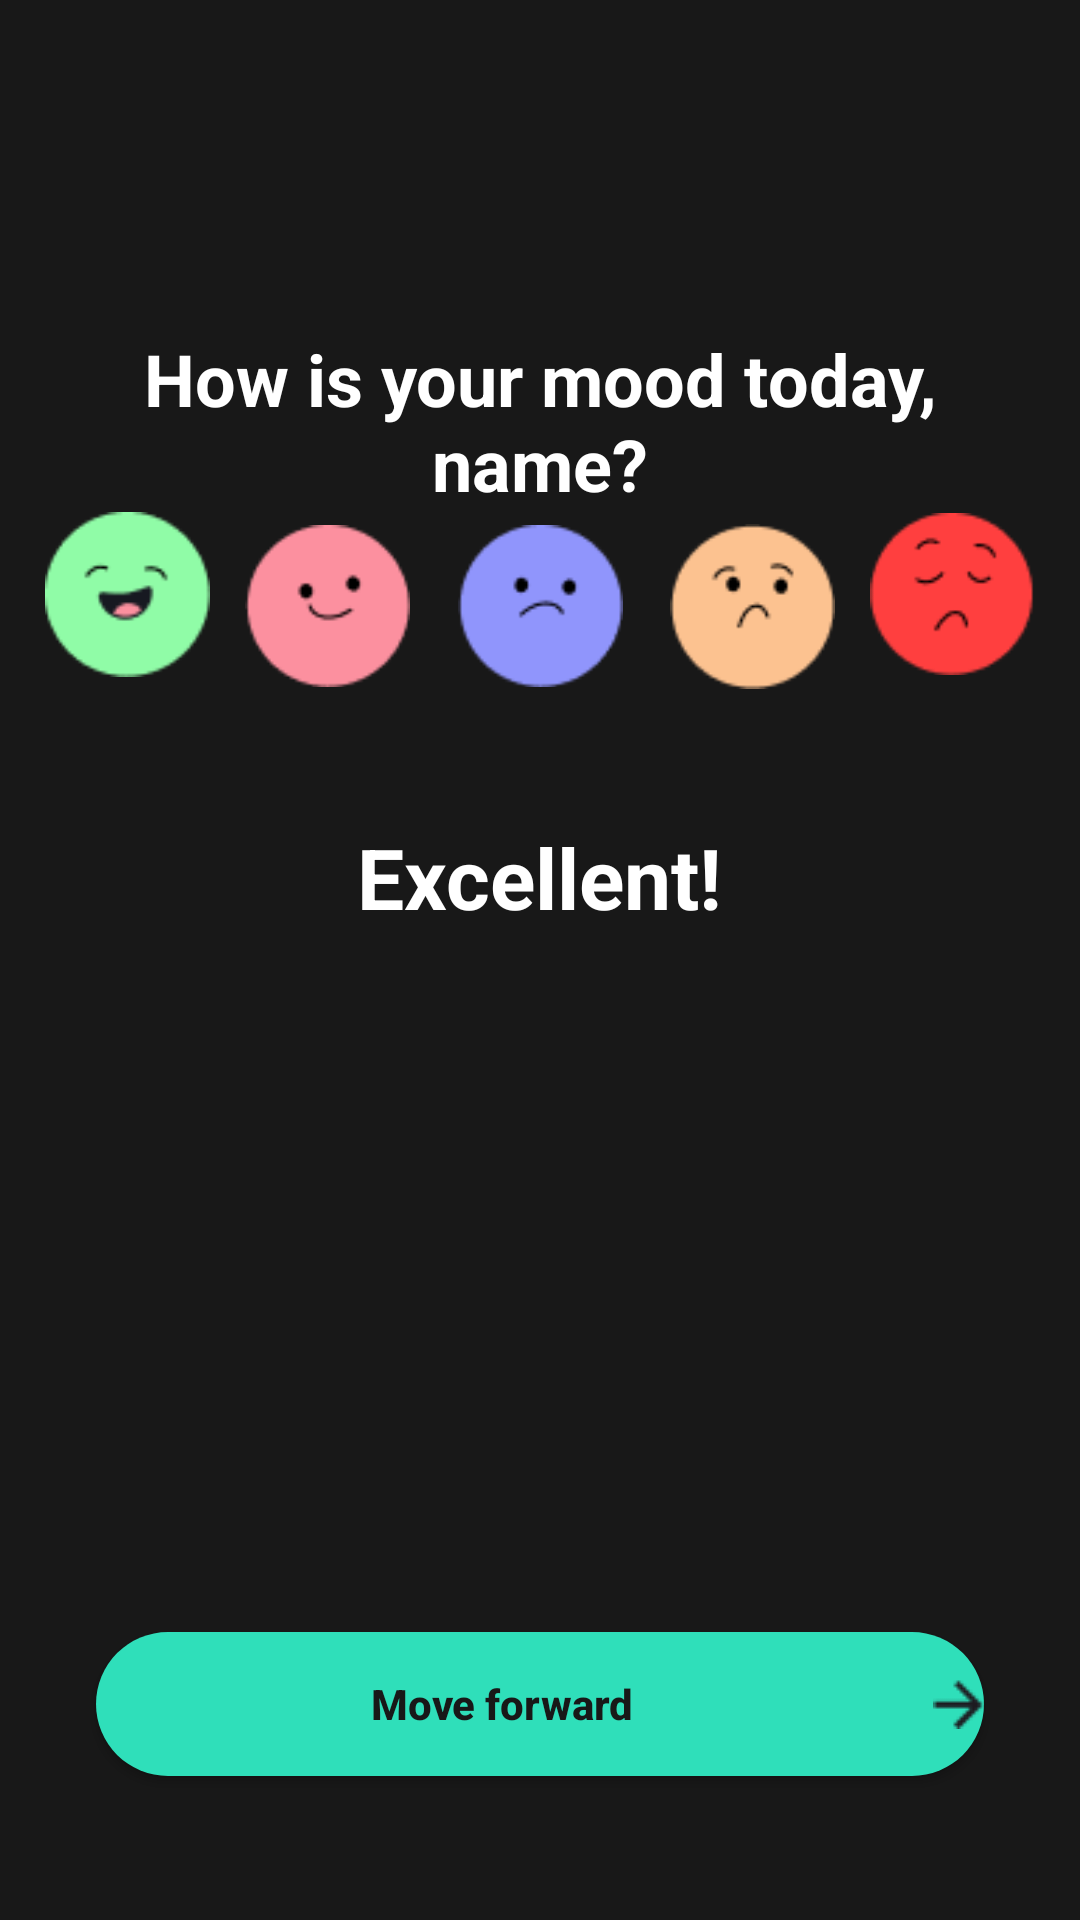

Icons on this 1080px x 1920px Android screen, each with its box as (x1, y1, x2, y2):
Good: (245, 525, 410, 687)
Meh: (458, 525, 623, 687)
Not Great: (670, 524, 835, 689)
Terrible: (870, 513, 1033, 675)
